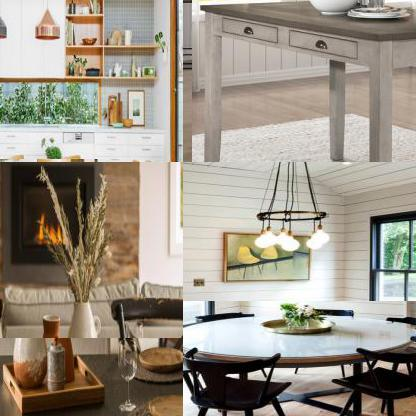table: (192, 0, 415, 161), (183, 300, 415, 415), (0, 338, 182, 415)
